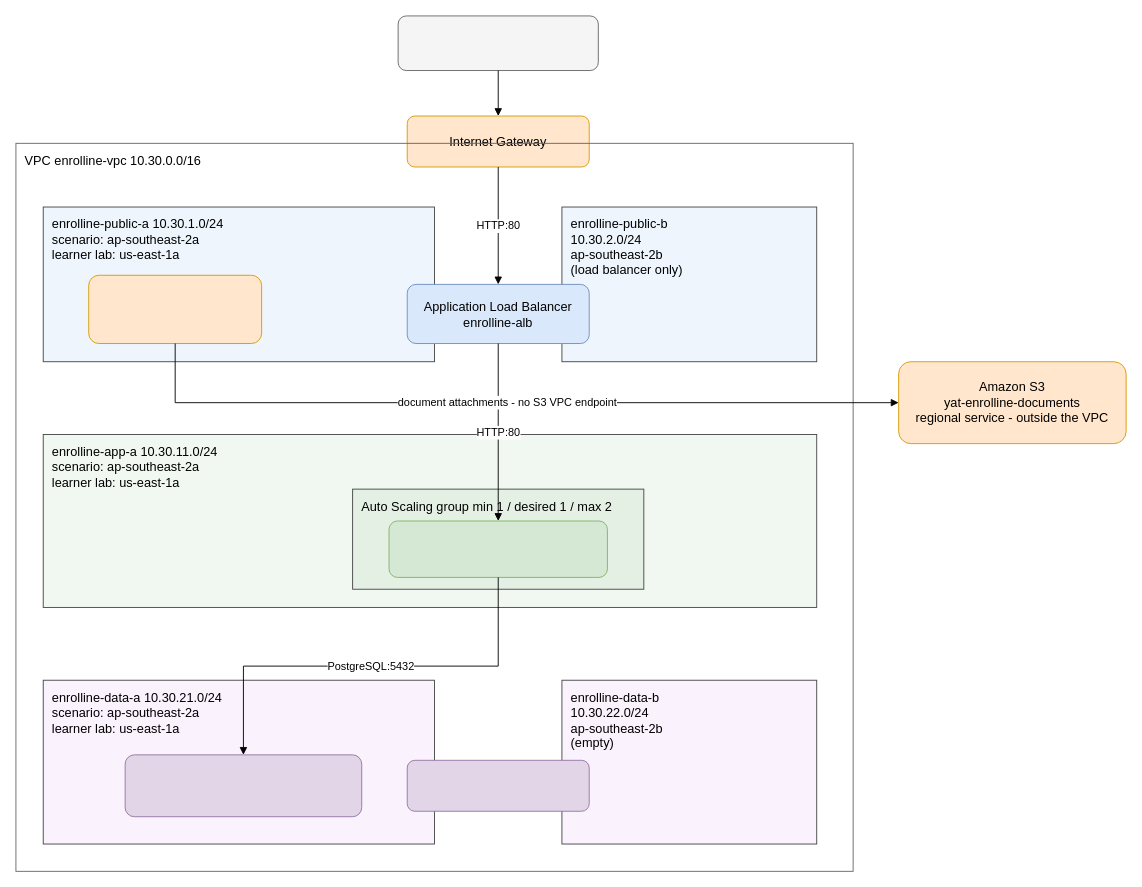
The diagram is 1142 pixels wide and 887 high, and some of its shapes have lost their labels. The shapes that lost their labels are listed below. From the top down, each one's centre as x and y in pixels, then its label:
At [497,43]: "Internet Admissions, student services and faculty staff".
At [175,309]: "NAT Gateway enrolline-nat all outbound traffic".
At [497,548]: "EC2 Amazon Linux 2023 + Enrolline".
At [243,785]: "RDS for PostgreSQL enrolline-db single-AZ, no standby".
At [497,785]: "DB subnet group".
